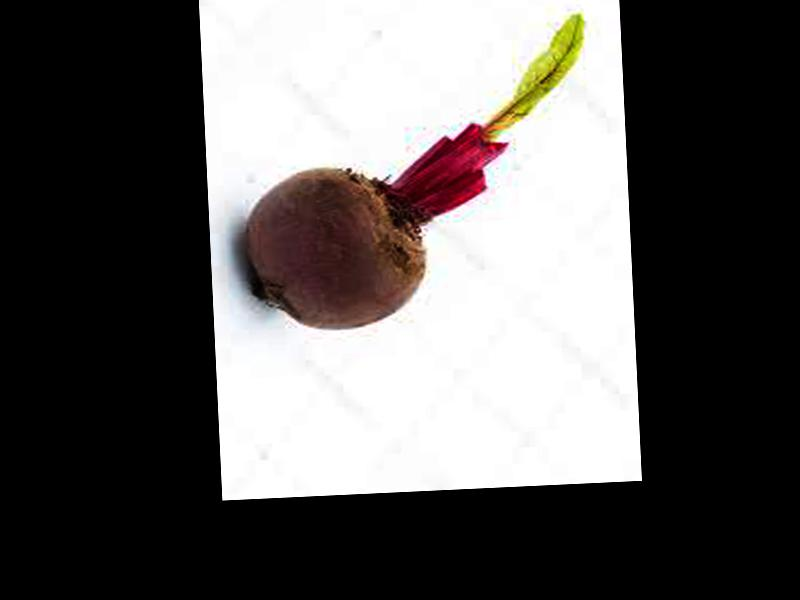Beet: (236, 17, 597, 334)
